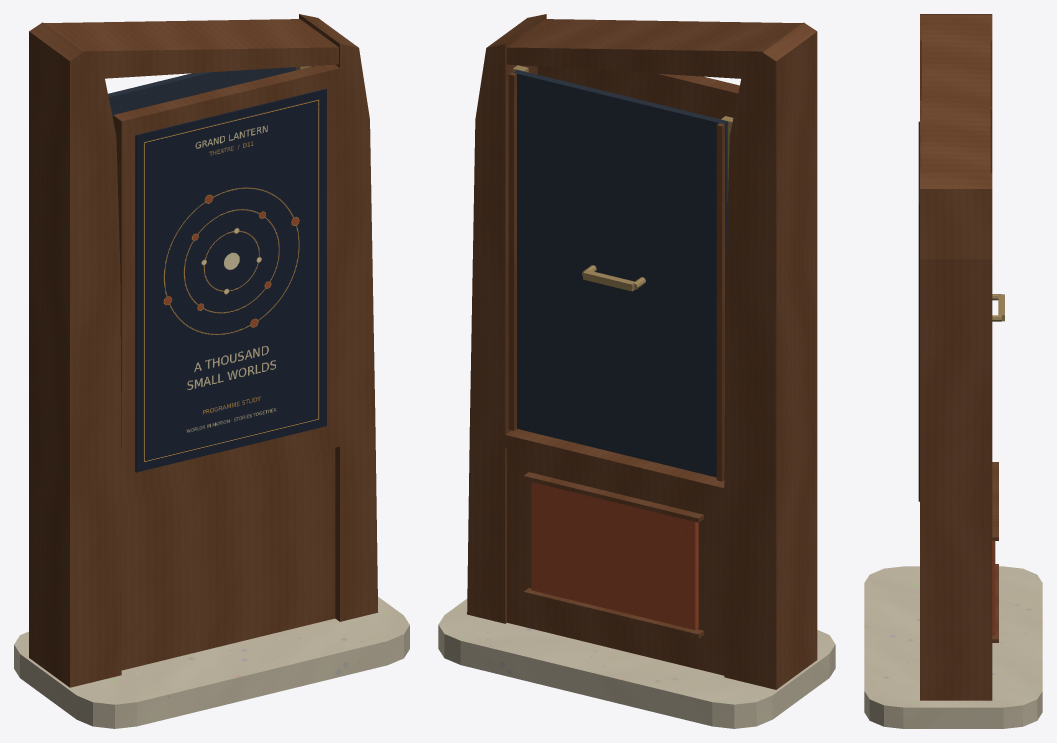
File: AST-CUL-001.glb
3 views of the same model, side by side, from view 1: azimuth 30°, elevation 25°; view 2: azimuth 150°, elevation 25°; view 3: azimuth 270°, elevation 25° (orthographic). The views are drawn at different scales.
Parts seen in each view (by area): view 1: AST-CUL-001__AST-CUL-001__warm_walnut, AST-CUL-001__AST-CUL-001__programme_original, AST-CUL-001__AST-CUL-001__warm_stone, AST-CUL-001__REAR_SERVICE_PANEL__auditorium_navy_fibre; view 2: AST-CUL-001__AST-CUL-001__warm_walnut, AST-CUL-001__REAR_SERVICE_PANEL__auditorium_navy_fibre, AST-CUL-001__AST-CUL-001__warm_stone, AST-CUL-001__AST-CUL-001__auditorium_amber_velvet, AST-CUL-001__REAR_SERVICE_PANEL__warm_walnut, AST-CUL-001__REAR_SERVICE_PANEL__champagne_metal; view 3: AST-CUL-001__AST-CUL-001__warm_walnut, AST-CUL-001__AST-CUL-001__warm_stone, AST-CUL-001__AST-CUL-001__programme_original, AST-CUL-001__AST-CUL-001__auditorium_amber_velvet.
Part boxes in pixels (<box>): AST-CUL-001__AST-CUL-001__warm_walnut: <box>29,14,378,687</box>; AST-CUL-001__AST-CUL-001__programme_original: <box>135,88,326,472</box>; AST-CUL-001__AST-CUL-001__warm_stone: <box>14,597,409,728</box>; AST-CUL-001__REAR_SERVICE_PANEL__auditorium_navy_fibre: <box>108,67,295,117</box>; AST-CUL-001__AST-CUL-001__warm_walnut: <box>467,14,817,689</box>; AST-CUL-001__REAR_SERVICE_PANEL__auditorium_navy_fibre: <box>513,69,727,477</box>; AST-CUL-001__AST-CUL-001__warm_stone: <box>438,599,835,728</box>; AST-CUL-001__AST-CUL-001__auditorium_amber_velvet: <box>531,482,698,630</box>; AST-CUL-001__REAR_SERVICE_PANEL__warm_walnut: <box>508,72,724,481</box>; AST-CUL-001__REAR_SERVICE_PANEL__champagne_metal: <box>582,265,645,291</box>; AST-CUL-001__AST-CUL-001__warm_walnut: <box>920,14,998,700</box>; AST-CUL-001__AST-CUL-001__warm_stone: <box>864,566,1042,728</box>; AST-CUL-001__AST-CUL-001__programme_original: <box>918,121,919,501</box>; AST-CUL-001__AST-CUL-001__auditorium_amber_velvet: <box>992,541,995,635</box>.
Size of the model in its own units: 1.2 by 2.3 by 0.64.
6 materials, 6 textured.
